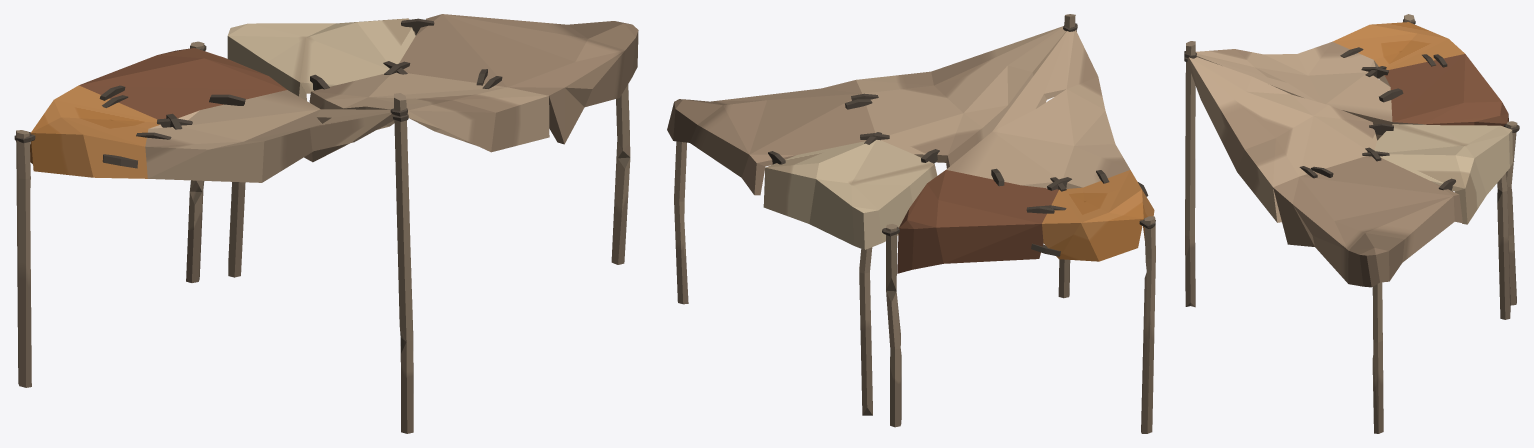
Rendered from SM_Bld_Tent_02.fbx.
3 renders of one model, left to right at view 1: azimuth 30°, elevation 25°; view 2: azimuth 150°, elevation 25°; view 3: azimuth 270°, elevation 25°, orthographic. The views are drawn at different scales.
Parts seen in each view (by area): view 1: SM_Bld_Tent_02; view 2: SM_Bld_Tent_02; view 3: SM_Bld_Tent_02.
Part boxes in pixels (x1,y1,x2,y2): SM_Bld_Tent_02: (14,14,638,433); SM_Bld_Tent_02: (667,14,1155,433); SM_Bld_Tent_02: (1184,14,1519,433).
Bounding box in the file's own units: 621 × 334 × 388.
